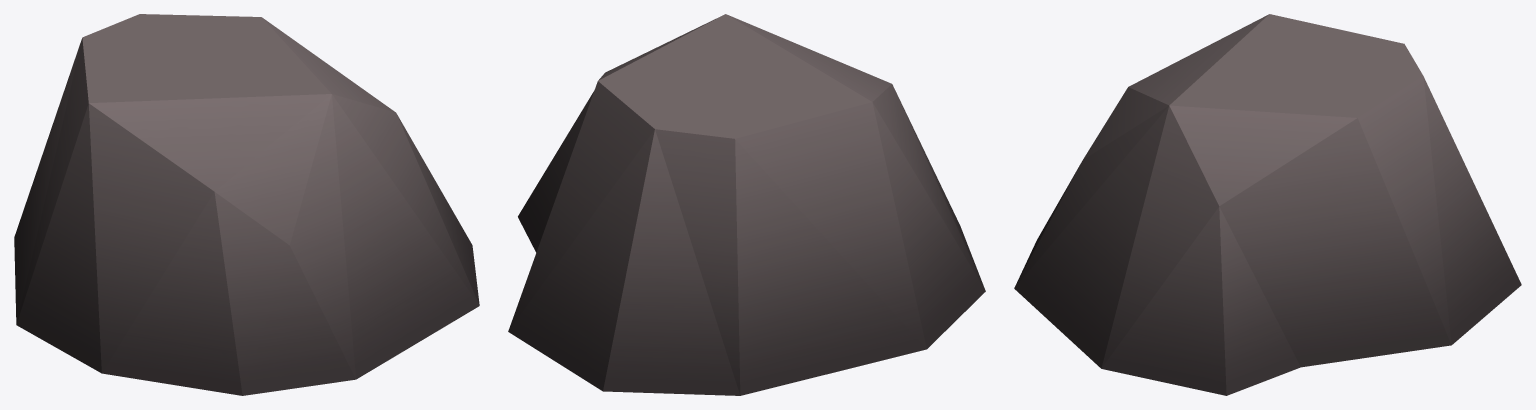
The model's file is SM_Rock_base_4.fbx.
3 renders of one model, left to right at view 1: azimuth 30°, elevation 25°; view 2: azimuth 150°, elevation 25°; view 3: azimuth 270°, elevation 25°, orthographic. The views are drawn at different scales.
Parts seen in each view (by area): view 1: Rock_base_4; view 2: Rock_base_4; view 3: Rock_base_4.
Part boxes in pixels (bbox=[...]): Rock_base_4: bbox=[14, 14, 479, 395]; Rock_base_4: bbox=[508, 14, 985, 395]; Rock_base_4: bbox=[1014, 14, 1521, 395].
Size of the model in its own units: 298 by 144 by 316.
1 material, 1 textured.
